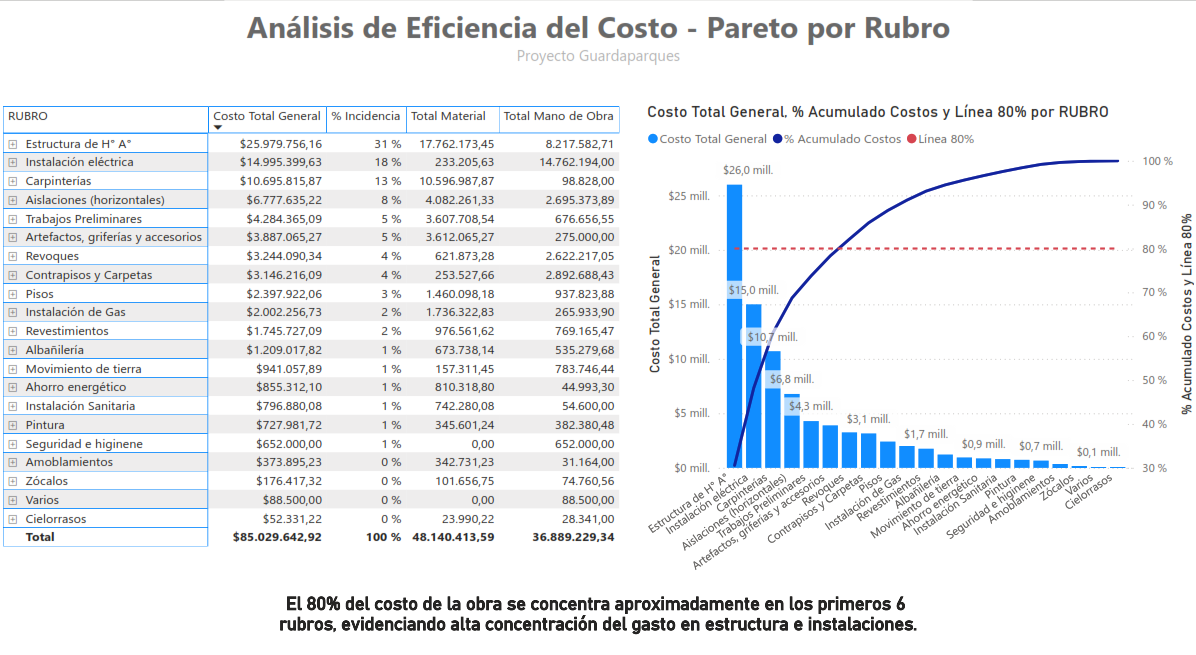

This screenshot's page, from the dashboard's own definition file:
{"tool":"powerbi","page":{"name":"Análisis de Eficiencia","canvas":[1280,720],"ordinal":2},"visuals":[{"type":"pivotTable","fields":{"Rows":["COSTOS_BI.RUBRO","COSTOS_BI.DESCRIPCIÓN"],"Values":["Medidas.Costo Total General","Medidas.% Incidencia","Medidas.Total Material","Medidas.Total Mano de Obra"]},"box":[0,108.2,686.7,526.7],"z":0},{"type":"lineClusteredColumnComboChart","fields":{"Category":["COSTOS_BI.RUBRO"],"Y":["Medidas.Costo Total General"],"Y2":["Medidas.% Acumulado Costos","Medidas.Línea 80%"]},"box":[686.7,108.2,593.3,526.7],"z":1000},{"type":"card","fields":{"Values":["Medidas.Texto Ejecutivo Eficiencia"]},"box":[282.9,611.4,712.9,85.7],"z":2000},{"type":"textbox","box":[241.4,0,797.1,74.3],"z":3000}]}

Visuals, with their boxes in screenshot pixels (x1, y1, x2, y2), scaled from the page's 1280x720 canvas onto the 1196x655 screenshot:
pivotTable - COSTOS_BI.RUBRO x COSTOS_BI.DESCRIPCIÓN: x1=0 y1=98 x2=642 y2=578
lineClusteredColumnComboChart - COSTOS_BI.RUBRO x Medidas.Costo Total General: x1=642 y1=98 x2=1195 y2=578
card - Medidas.Texto Ejecutivo Eficiencia: x1=264 y1=556 x2=930 y2=634
textbox: x1=226 y1=0 x2=970 y2=68
